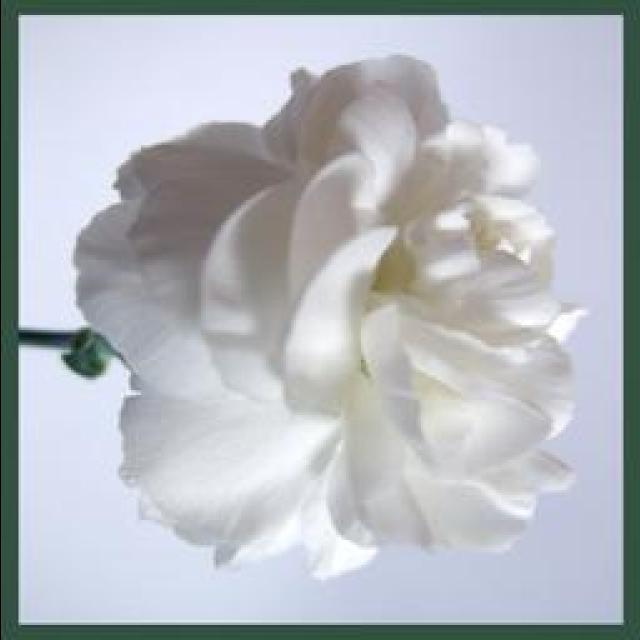carnation: (72, 36, 580, 590)
